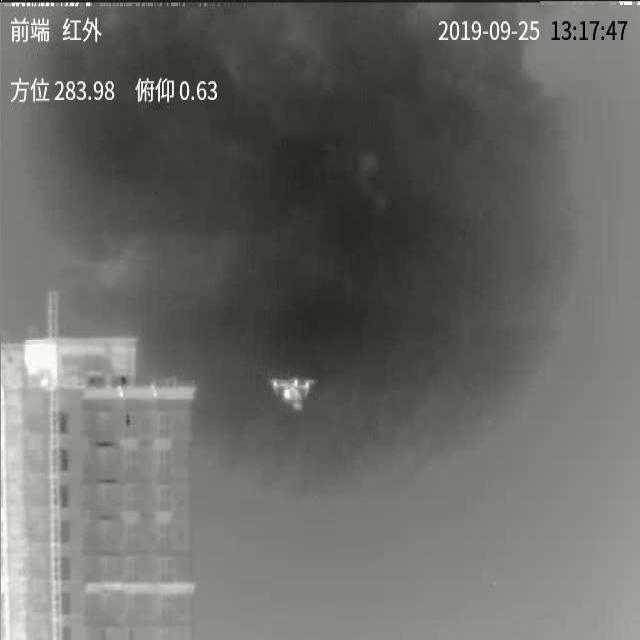drone: (270, 377, 317, 410)
